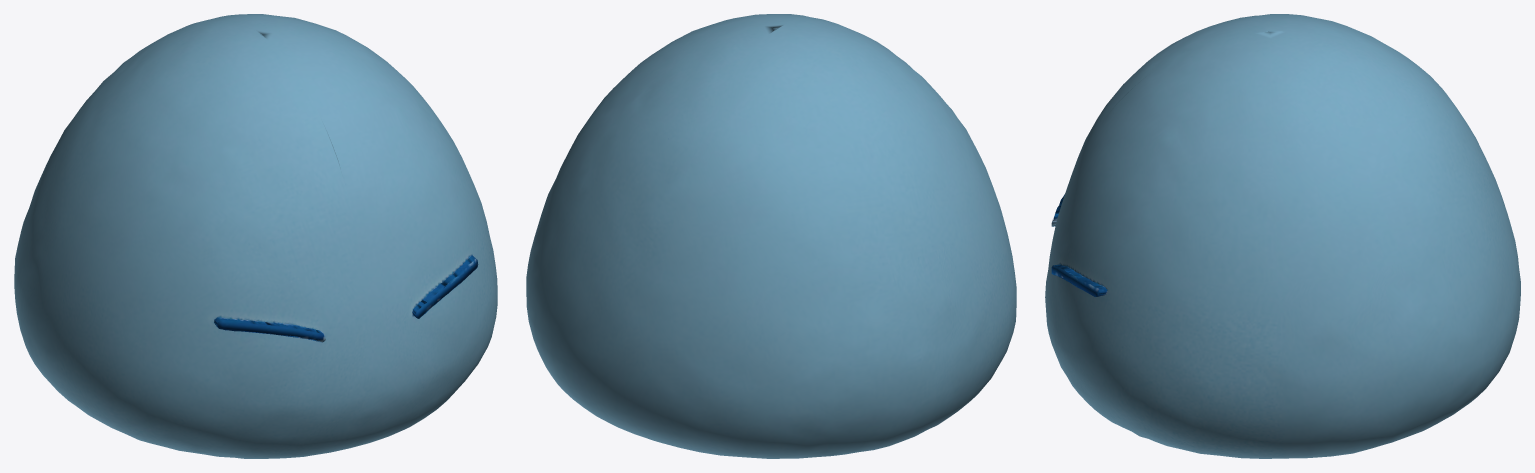
File: blue_slime.glb
The picture shows the model from 3 angles, left to right: view 1: azimuth 30°, elevation 25°; view 2: azimuth 150°, elevation 25°; view 3: azimuth 270°, elevation 25°; orthographic projection.
Parts seen in each view (by area): view 1: tripo_node_670a136c-d50f-4cb0-9e02-534d33c02da7; view 2: tripo_node_670a136c-d50f-4cb0-9e02-534d33c02da7; view 3: tripo_node_670a136c-d50f-4cb0-9e02-534d33c02da7.
Part boxes in pixels (box(x1,y1,x2,y2)): tripo_node_670a136c-d50f-4cb0-9e02-534d33c02da7: box(14, 14, 497, 458); tripo_node_670a136c-d50f-4cb0-9e02-534d33c02da7: box(526, 14, 1016, 458); tripo_node_670a136c-d50f-4cb0-9e02-534d33c02da7: box(1045, 14, 1520, 458).
Bounding box in the file's own units: 0.998 × 0.8535 × 0.9902.
Materials: 1 (1 with a texture image).
